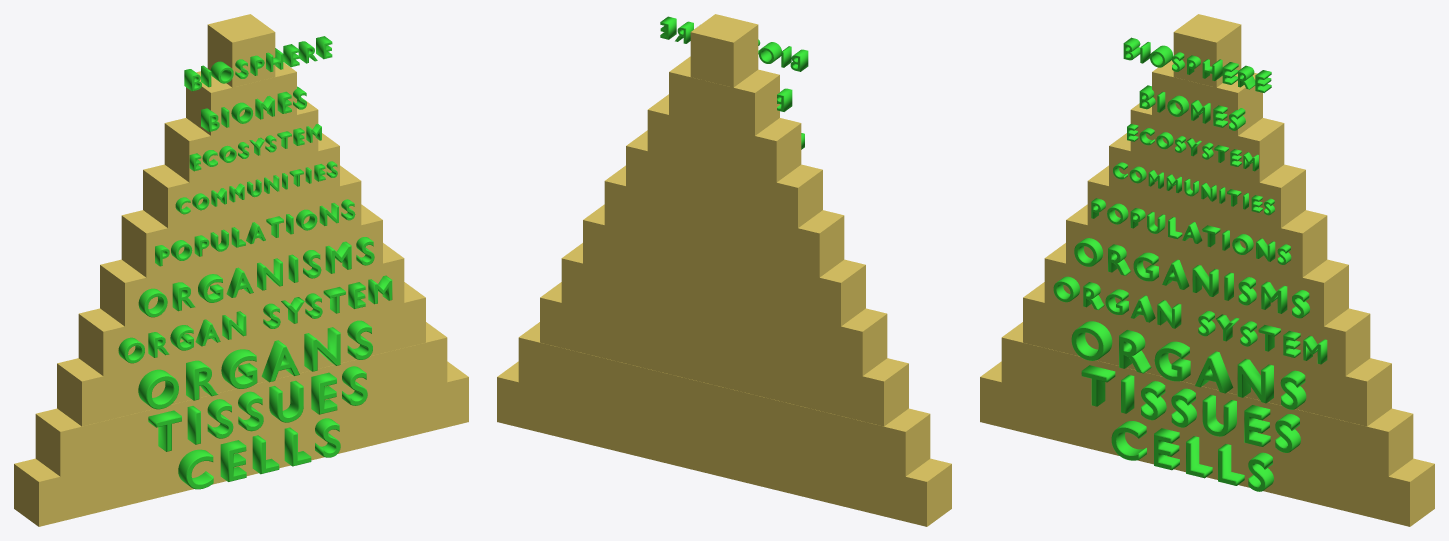
The model's file is org.gltf.
3 renders of one model, left to right at view 1: azimuth 30°, elevation 25°; view 2: azimuth 150°, elevation 25°; view 3: azimuth 330°, elevation 25°, orthographic.
Parts seen in each view (by area): view 1: Cube, Cube.001, Cube.002, Cube.003, Cube.004, Cube.005, Cube.006, Cube.007, CEELS.002, CEELS.001, CEELS.003, CEELS.004 (+8 smaller); view 2: Cube, Cube.001, Cube.002, Cube.003, Cube.004, Cube.005, Cube.006, Cube.007, Cube.008, Cube.009, CEELS.009; view 3: Cube, Cube.001, Cube.002, Cube.003, Cube.004, Cube.005, Cube.006, CEELS.002, Cube.007, CEELS.001, CEELS.003, CEELS.004 (+8 smaller).
Part boxes in pixels (x1,y1,x2,y2): Cube: (14,361,468,526); Cube.001: (35,322,447,476); Cube.002: (57,282,425,426); Cube.003: (78,243,404,376); Cube.004: (100,204,382,326); Cube.005: (121,165,361,277); Cube.006: (143,133,339,229); Cube.007: (164,101,318,182); CEELS.002: (138,320,372,409); CEELS.001: (148,366,367,451); CEELS.003: (118,275,392,363); CEELS.004: (138,237,374,317); Cube: (497,361,951,526); Cube.001: (518,322,930,476); Cube.002: (540,282,908,426); Cube.003: (561,243,887,376); Cube.004: (583,204,865,327); Cube.005: (604,165,844,278); Cube.006: (626,130,822,227); Cube.007: (647,94,801,182); Cube.008: (669,56,779,137); Cube.009: (690,14,758,87); CEELS.009: (660,16,808,71); Cube: (980,361,1434,526); Cube.001: (1001,322,1413,476); Cube.002: (1023,282,1391,426); Cube.003: (1044,243,1370,376); Cube.004: (1066,204,1348,327); Cube.005: (1087,165,1327,278); Cube.006: (1109,133,1305,227); CEELS.002: (1071,321,1306,409); Cube.007: (1130,103,1284,185); CEELS.001: (1081,365,1300,452); CEELS.003: (1053,276,1327,364); CEELS.004: (1074,238,1310,318).
Bounding box in the file's own units: 20 × 19.42 × 2.66.
